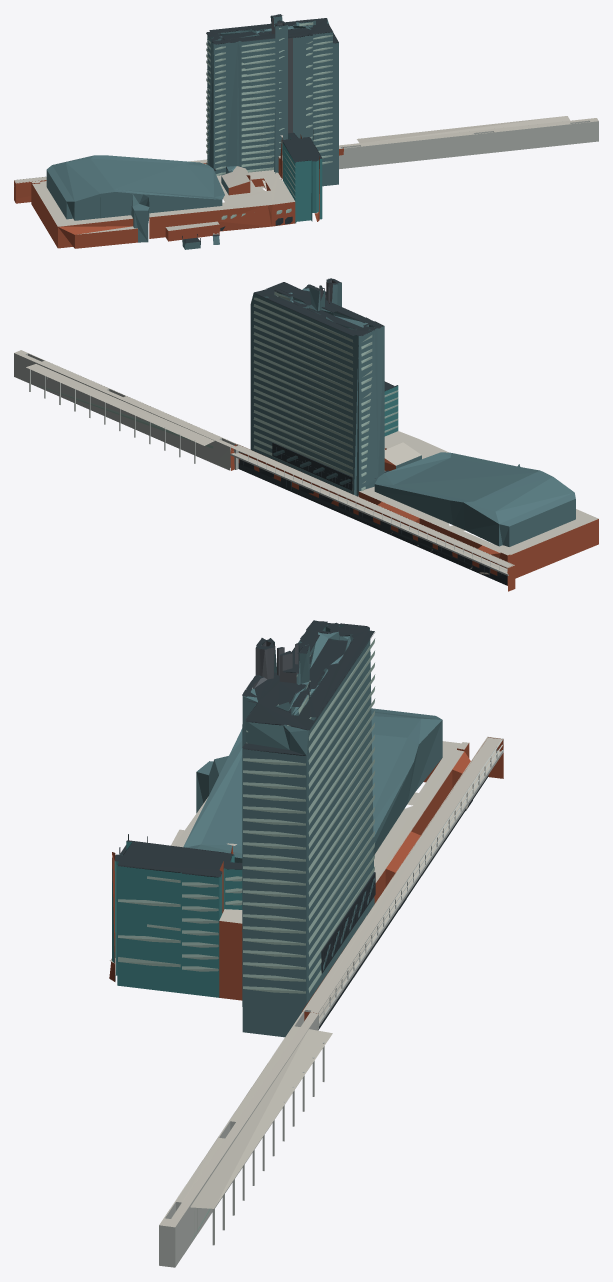
The model's file is ij-toren.lod1.glb.
The picture shows the model from 3 angles, top to bottom: view 1: azimuth 30°, elevation 25°; view 2: azimuth 150°, elevation 25°; view 3: azimuth 270°, elevation 25°; orthographic projection. The views are drawn at different scales.
Visible parts, largest first — view 1: ij-toren; view 2: ij-toren; view 3: ij-toren.
Part boxes in pixels (x1,y1,x2,y2): ij-toren: [14, 14, 598, 249]; ij-toren: [14, 278, 598, 591]; ij-toren: [109, 620, 503, 1267].
Bounding box in the file's own units: 282 × 87.89 × 92.94.
